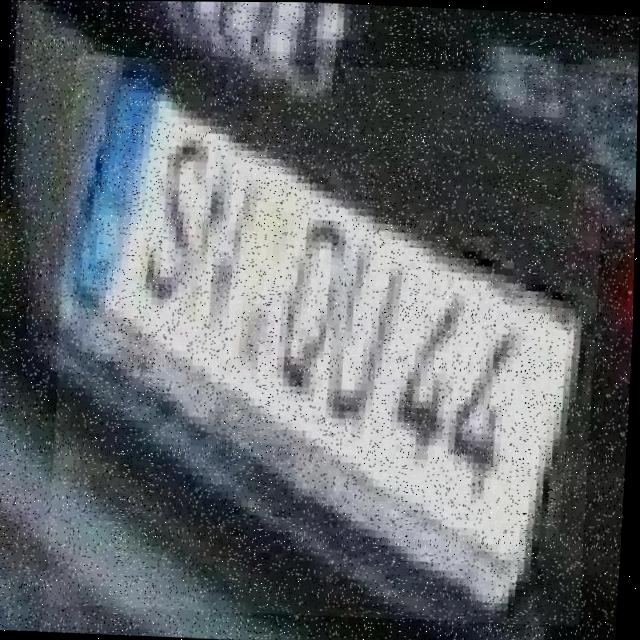LicensePlate: (47, 55, 610, 625)
